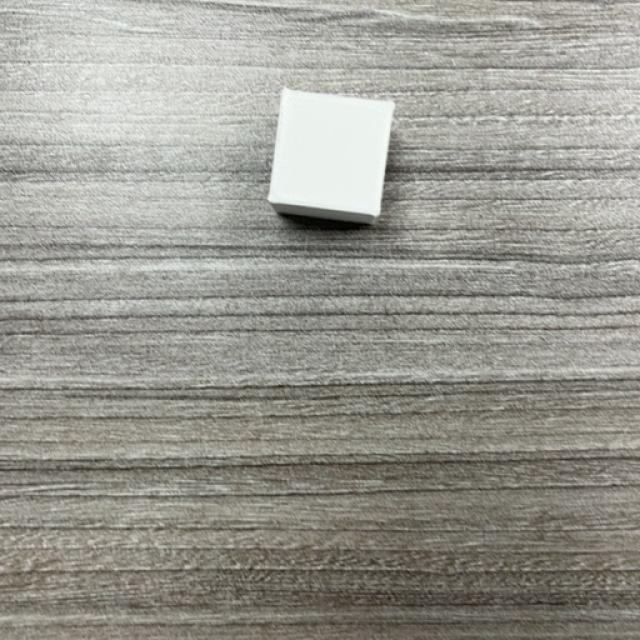Blanco: (266, 89, 395, 228)
